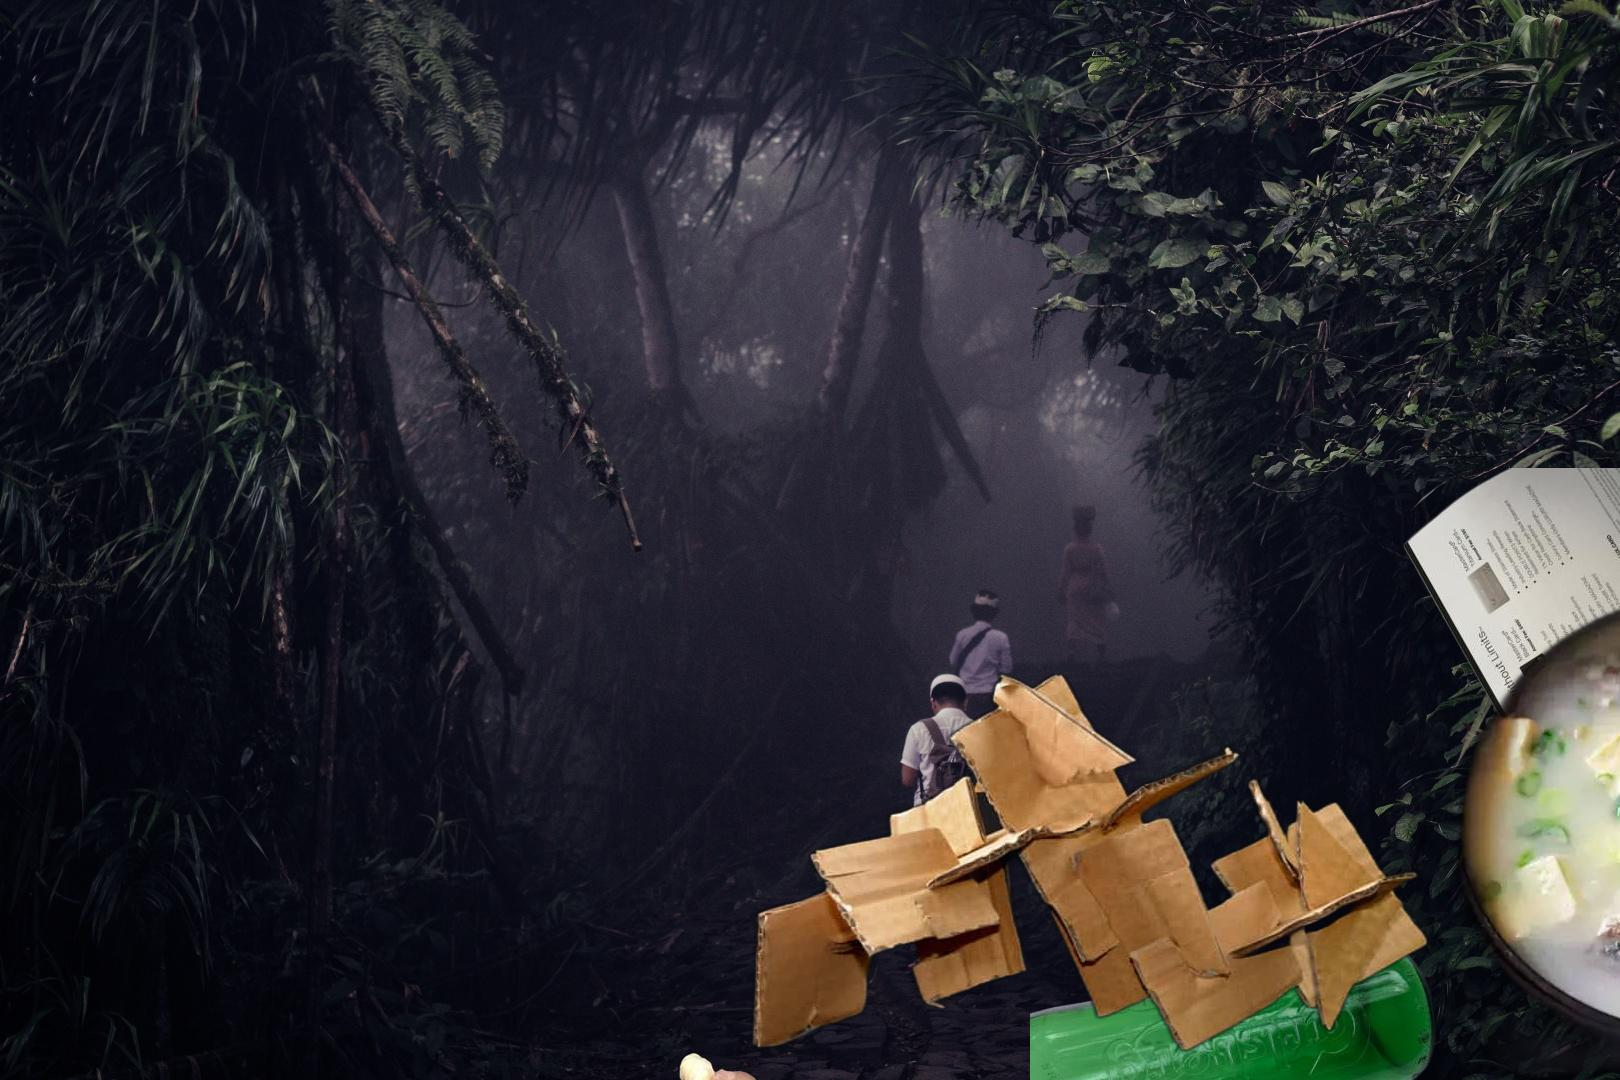biological: (1398, 441, 1620, 1080), (571, 1050, 818, 1080)
glass: (1031, 937, 1440, 1080)
paper: (1399, 468, 1620, 834)
trashbox-cardboard: (742, 668, 1438, 1057)
